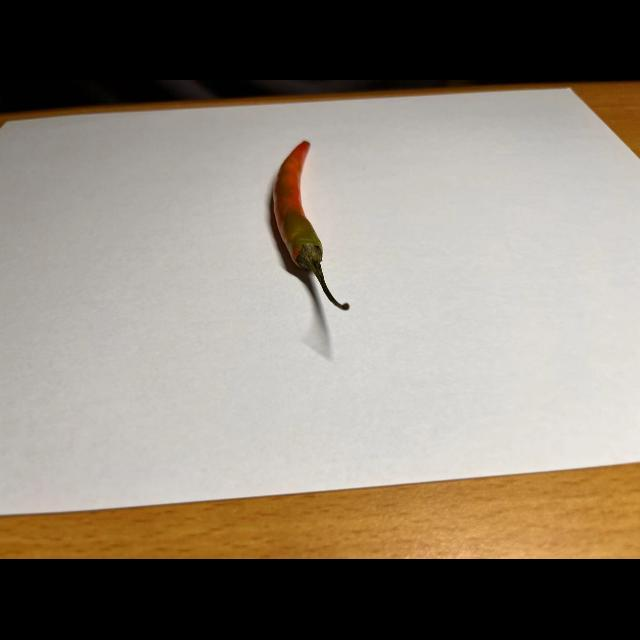chili_pepper: (254, 140, 358, 315)
